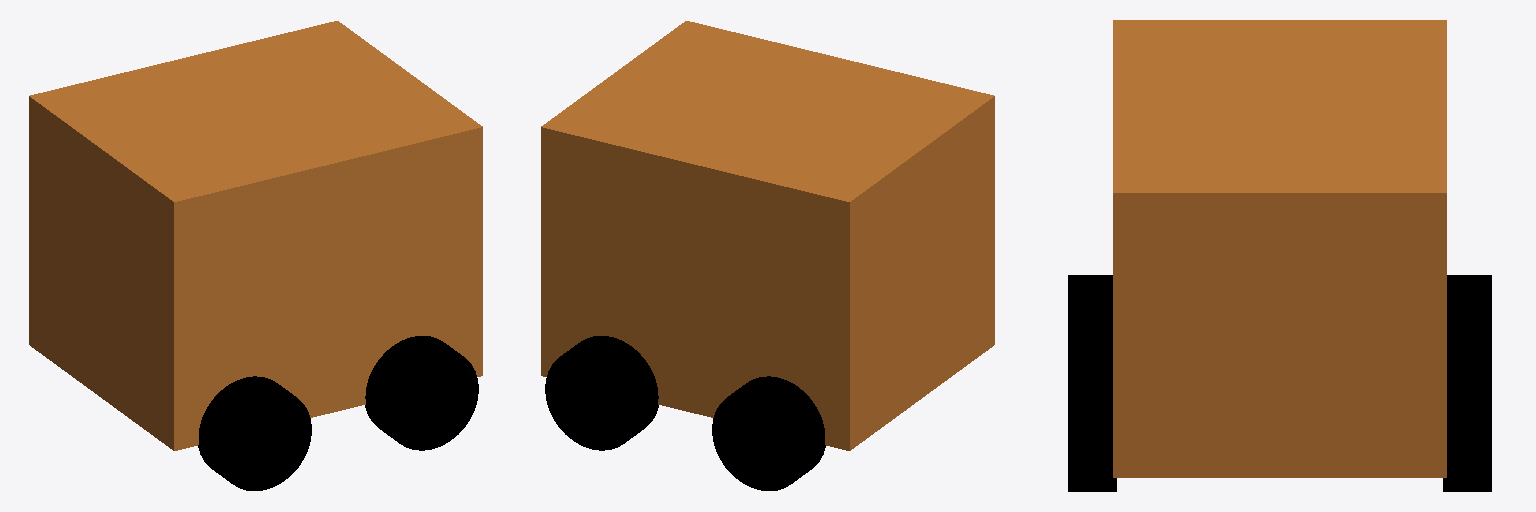
URDF robot description (robot):
<?xml version="1.0" ?>
<robot name="robot">
    <!-- Определение материалов для визуализации -->
    <material name="white">
        <color rgba="1 1 1 1" /> <!-- Белый цвет -->
    </material>

    <material name="orange">
        <color rgba="1 0.3 0.1 1"/> <!-- Оранжевый цвет -->
    </material>

    <material name="blue">
        <color rgba="0.2 0.2 1 1"/> <!-- Синий цвет -->
    </material>

    <material name="black">
        <color rgba="0 0 0 1"/> <!-- Черный цвет -->
    </material>

    <material name="red">
        <color rgba="1 0 0 1"/> <!-- Красный цвет -->
    </material>

    <material name="light_brown">
        <color rgba="0.8 0.52 0.25 1"/> <!-- Светло-коричневый цвет -->
    </material>

    <!-- Описание базового звена -->
    <link name="base_link">
    </link>

    <!-- Определение фиктивного звена base_footprint -->
    <link name="base_footprint">
    </link>

    <!-- Фиксированное соединение между base_link и base_footprint -->
    <joint name="base_footprint_joint" type="fixed">
        <parent link="base_link"/>
        <child link="base_footprint"/>
        <origin xyz="0 0 -0.138" rpy="0 0 0"/> <!-- Смещение по оси Z -->
    </joint>

    <!-- Фиксированное соединение между base_link и шасси -->
    <joint name="chassis_joint" type="fixed">
        <parent link="base_link"/>
        <child link="chassis"/>
        <origin xyz="-0.335 0 -0.01"/> <!-- Смещение по осям X и Z -->
    </joint>

    <!-- Описание шасси -->
    <link name="chassis">
        <inertial>
            <origin xyz="0.2175 0 0.1675" rpy="0 0 0"/> <!-- Центр масс -->
            <mass value="1.0" /> <!-- Масса -->
            <inertia ixx="0.0215479" ixy="0.0" ixz="0.0"
                     iyy="0.0272431" iyz="0.0"
                     izz="0.0362329" /> <!-- Момент инерции -->
        </inertial>
        <visual>
            <origin xyz="0.2175 0 0.1675"/> <!-- Смещение для визуализации -->
            <geometry>
                <box size="0.435 0.355 0.335"/> <!-- Форма шасси -->
            </geometry>
            <material name="light_brown"/> <!-- Материал для визуализации -->
        </visual>
        <collision>
            <origin xyz="0.2175 0 0.1675"/> <!-- Смещение для столкновений -->
            <geometry>
                <box size="0.435 0.355 0.335"/> <!-- Геометрия для столкновений -->
            </geometry>
        </collision>
    </link>

    <!-- Настройки для симуляции шасси в Gazebo -->
    <gazebo reference="chassis">
        <material>Gazebo/Orange</material>
    </gazebo>

    <!-- Описание соединения для левого колеса -->
    <joint name="left_wheel_joint" type="continuous">
        <parent link="base_link"/>
        <child link="left_wheel"/>
        <origin xyz="0 0.2 0" rpy="-1.5708 0 0" /> <!-- Смещение и ориентация -->
        <axis xyz="0 0 1"/> <!-- Ось вращения -->
    </joint>

    <!-- Описание левого колеса -->
    <link name="left_wheel">
        <visual>
            <geometry>
                <cylinder radius="0.066" length="0.052"/> <!-- Геометрия для визуализации колеса в форме цилиндра -->
            </geometry>
            <material name="black"/> <!-- Материал для визуализации -->
        </visual>
        <collision>
            <geometry>
                <sphere radius="0.066"/> <!-- Геометрия для обнаружения столкновений, в данном случае сфера -->
            </geometry>
        </collision>
        <inertial>
            <origin xyz="0 0 0" rpy="0 0 0"/> <!-- Центр масс колеса -->
            <mass value="0.05" /> <!-- Масса колеса -->
            <inertia ixx="0.000042" ixy="0.0" ixz="0.0"
                     iyy="0.000042" iyz="0.0"
                     izz="0.000227" /> <!-- Моменты инерции -->
        </inertial>
    </link>

    <!-- Настройки для визуализации левого колеса в Gazebo -->
    <gazebo reference="left_wheel">
        <material>Gazebo/Black</material>
    </gazebo>

    <!-- Описание соединения для правого колеса -->
    <joint name="right_wheel_joint" type="continuous">
        <parent link="base_link"/>
        <child link="right_wheel"/>
        <origin xyz="0 -0.2 0" rpy="1.5708 0 0" /> <!-- Смещение и ориентация -->
        <axis xyz="0 0 -1"/> <!-- Ось вращения колеса -->
    </joint>

    <!-- Описание правого колеса -->
    <link name="right_wheel">
        <visual>
            <geometry>
                <cylinder radius="0.066" length="0.052"/> <!-- Геометрия колеса в форме цилиндра -->
            </geometry>
            <material name="black"/> <!-- Материал для визуализации -->
        </visual>
        <collision>
            <geometry>
                <sphere radius="0.066"/> <!-- Геометрия столкновений, сфера -->
            </geometry>
        </collision>
        <inertial>
            <origin xyz="0 0 0" rpy="0 0 0"/> <!-- Центр масс колеса -->
            <mass value="0.05" /> <!-- Масса колеса -->
            <inertia ixx="0.000042" ixy="0.0" ixz="0.0"
                     iyy="0.000042" iyz="0.0"
                     izz="0.000227" /> <!-- Моменты инерции -->
        </inertial>
    </link>

    <!-- Настройки для визуализации правого колеса в Gazebo -->
    <gazebo reference="right_wheel">
        <material>Gazebo/Black</material>
    </gazebo>

    <!-- Описание соединения для заднего левого колеса -->
    <joint name="back_left_wheel_joint" type="continuous">
        <parent link="base_link"/>
        <child link="back_left_wheel"/>
        <origin xyz="-0.235 0.2 0" rpy="1.5708 0 0" /> <!-- Смещение и ориентация -->
        <axis xyz="0 0 -1"/> <!-- Ось вращения колеса -->
    </joint>

    <!-- Описание заднего левого колеса -->
    <link name="back_left_wheel">
        <visual>
            <geometry>
                <cylinder radius="0.066" length="0.052"/> <!-- Геометрия колеса в форме цилиндра -->
            </geometry>
            <material name="black"/> <!-- Материал для визуализации -->
        </visual>
        <collision>
            <geometry>
                <sphere radius="0.066"/> <!-- Геометрия столкновений, сфера -->
            </geometry>
        </collision>
        <inertial>
            <origin xyz="0 0 0" rpy="0 0 0"/> <!-- Центр масс колеса -->
            <mass value="0.05" /> <!-- Масса колеса -->
            <inertia ixx="0.000042" ixy="0.0" ixz="0.0"
                     iyy="0.000042" iyz="0.0"
                     izz="0.000227" /> <!-- Моменты инерции -->
        </inertial>
    </link>

    <!-- Настройки для визуализации заднего левого колеса в Gazebo -->
    <gazebo reference="back_left_wheel">
        <material>Gazebo/Black</material>
    </gazebo>

    <!-- Описание соединения для заднего правого колеса -->
    <joint name="back_right_wheel_joint" type="continuous">
        <parent link="base_link"/>
        <child link="back_right_wheel"/>
        <origin xyz="-0.235 -0.2 0" rpy="-1.5708 0 0" /> <!-- Смещение и ориентация -->
        <axis xyz="0 0 1"/> <!-- Ось вращения колеса -->
    </joint>

    <!-- Описание заднего правого колеса -->
    <link name="back_right_wheel">
        <visual>
            <geometry>
                <cylinder radius="0.066" length="0.052"/> <!-- Геометрия колеса -->
            </geometry>
            <material name="black"/> <!-- Материал для визуализации -->
        </visual>
        <collision>
            <geometry>
                <sphere radius="0.066"/> <!-- Геометрия для столкновений -->
            </geometry>
        </collision>
        <inertial>
            <origin xyz="0 0 0" rpy="0 0 0"/> <!-- Центр масс колеса -->
            <mass value="0.05" /> <!-- Масса колеса -->
            <inertia ixx="0.000042" ixy="0.0" ixz="0.0"
                     iyy="0.000042" iyz="0.0"
                     izz="0.000227" /> <!-- Моменты инерции -->
        </inertial>
    </link>

    <!-- Настройки для визуализации заднего правого колеса в Gazebo -->
    <gazebo reference="back_right_wheel">
        <material>Gazebo/Black</material>
    </gazebo>

</robot>

--- Render facts (derived) ---
3 views of the same robot in one strip: view 1: azimuth 30°, elevation 25°; view 2: azimuth 150°, elevation 25°; view 3: azimuth 270°, elevation 25° (orthographic).
Robot: robot — 7 links, 6 joints (4 continuous, 2 fixed); root link base_link; default pose: all joints at 0.
Visible links, largest first — view 1: chassis, right_wheel, back_right_wheel; view 2: chassis, left_wheel, back_left_wheel; view 3: chassis, left_wheel, right_wheel, back_left_wheel, back_right_wheel.
Boxes of the visible links, box(x1,y1,x2,y2) form: chassis: box(29, 21, 482, 450); right_wheel: box(365, 336, 478, 450); back_right_wheel: box(198, 376, 311, 490); chassis: box(541, 21, 994, 450); left_wheel: box(545, 336, 658, 450); back_left_wheel: box(712, 376, 825, 490); chassis: box(1113, 20, 1446, 477); left_wheel: box(1443, 368, 1491, 491); right_wheel: box(1068, 368, 1116, 491); back_left_wheel: box(1447, 275, 1491, 367); back_right_wheel: box(1068, 275, 1112, 367).
Size in the robot's own frame: 0.435 by 0.452 by 0.391 metres.
Geometry: primitives only (box / cylinder / sphere), no mesh files.